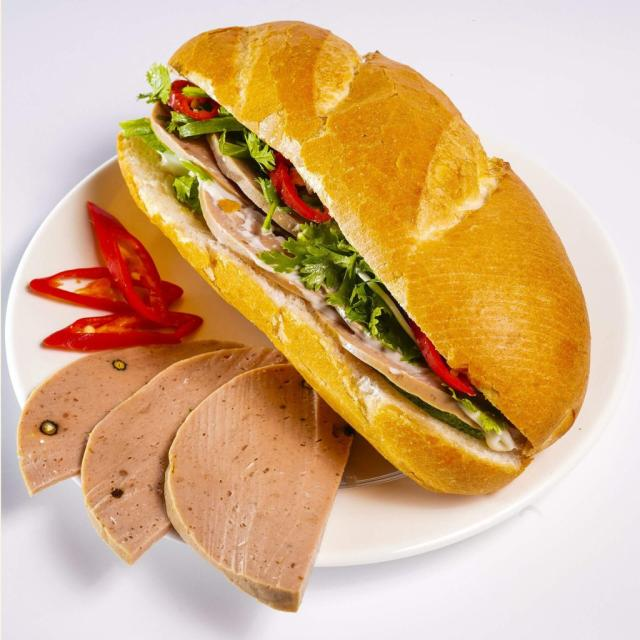banh mi: (118, 21, 590, 493)
ot: (29, 202, 202, 351)
